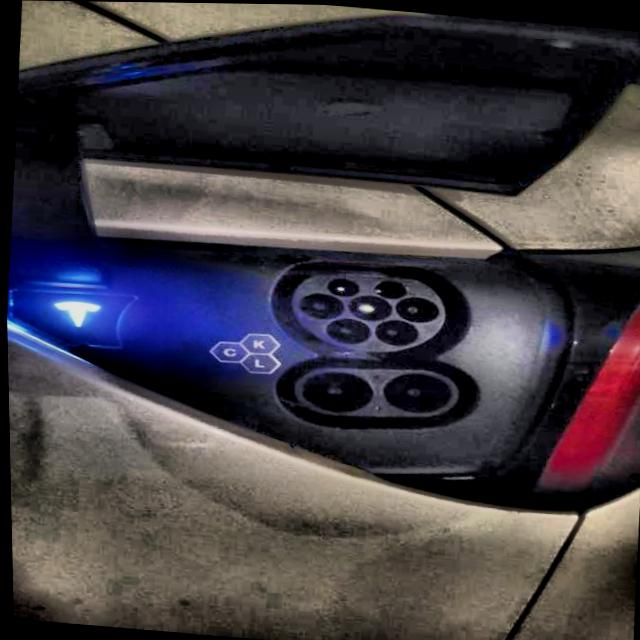inlet: (291, 273, 443, 350)
inlet-above-left: (327, 277, 357, 295)
inlet-above-right: (374, 279, 405, 297)
inlet-below-left: (324, 317, 369, 343)
inlet-below-right: (373, 318, 417, 344)
inlet-center: (346, 293, 391, 320)
inlet-center-left: (298, 292, 343, 318)
inlet-center-right: (394, 295, 438, 322)
